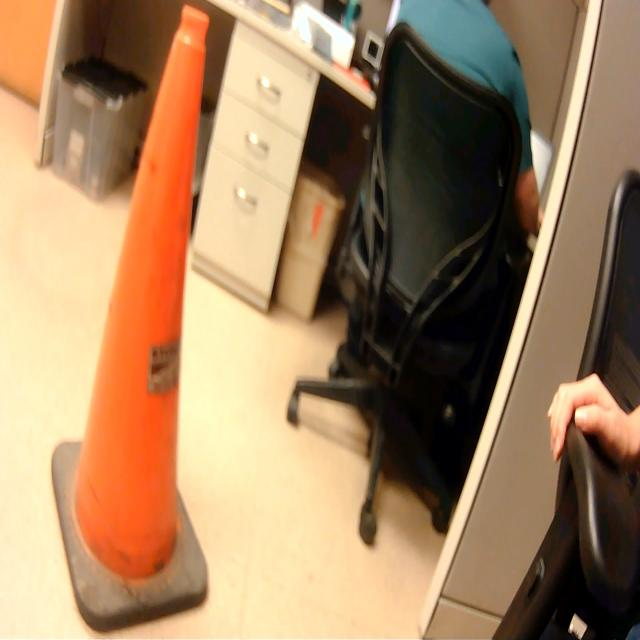traffic cone: (47, 2, 225, 634)
